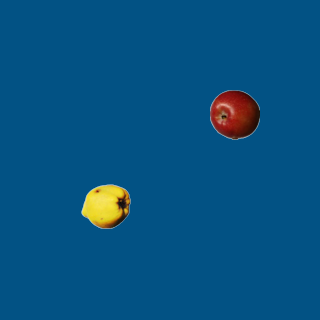Apple Braeburn: (209, 89, 259, 139)
Quince: (80, 181, 130, 231)
